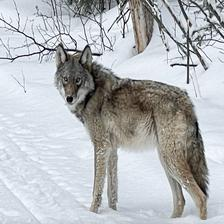WOLF: (52, 46, 212, 218)
